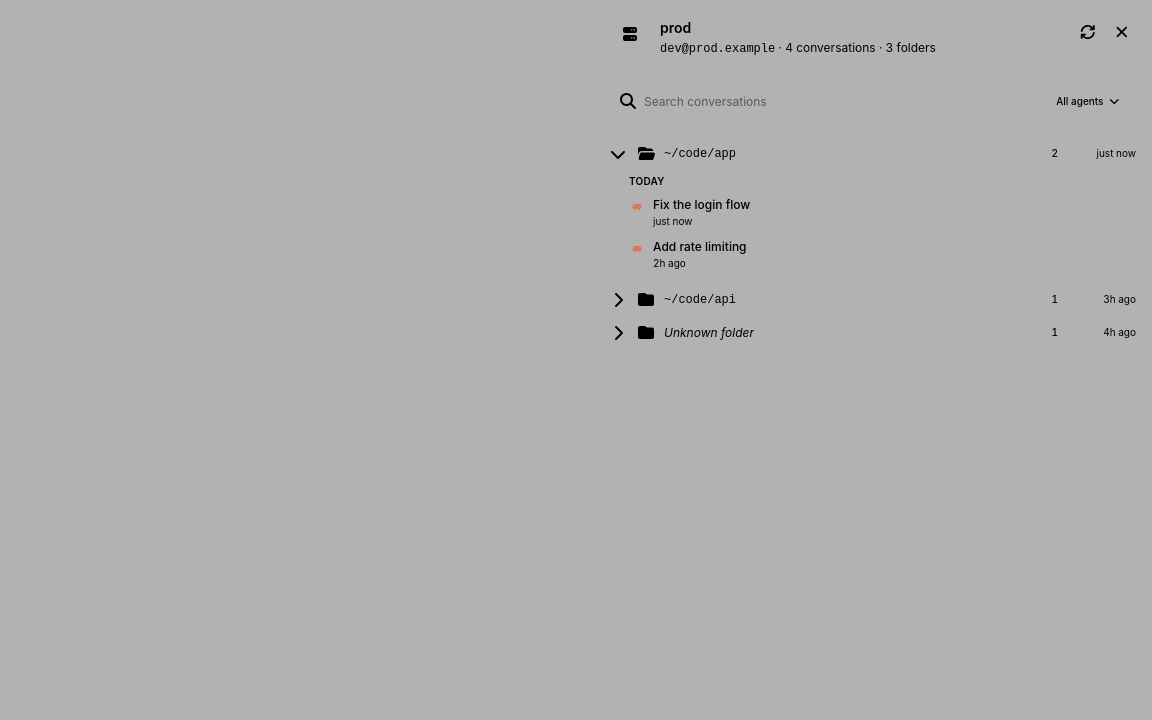
it: SshHistoryPanel › groups by folder, home shortened to ~, newest folder open and the rest folded
This screenshot has width=1152, height=720.
Expected: the text "Fix the login flow" is shown, 653,197 -> 750,212
Expected: the dialog "prod" shows "4 conversations · 3 folders", 785,40 -> 936,55
Click the button "~/code /api 1 3h ago". click: (686, 300)
box: 600,285 -> 1144,314
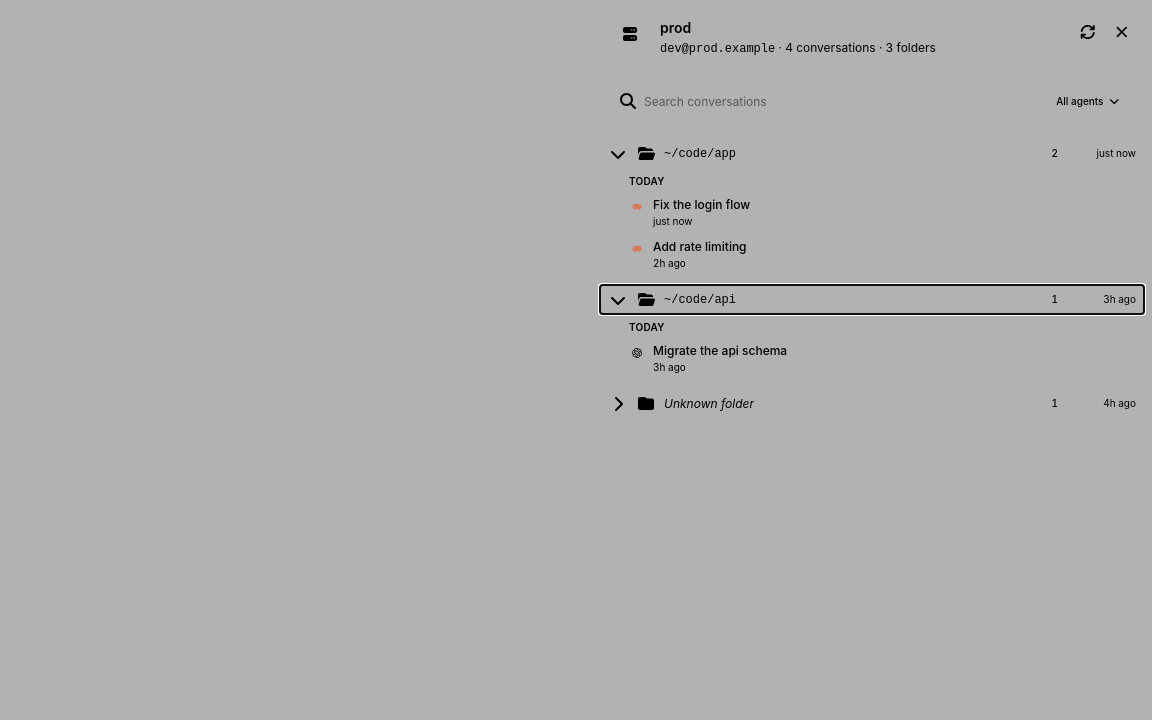
Expected: the button "~/code /api 1 3h ago" is expanded, 600,285 -> 1144,314
Expected: the text "Migrate the api schema" is shown, 653,343 -> 787,358
Click the button "~/code /app 2 just now". click: (686, 154)
box: 600,139 -> 1144,168
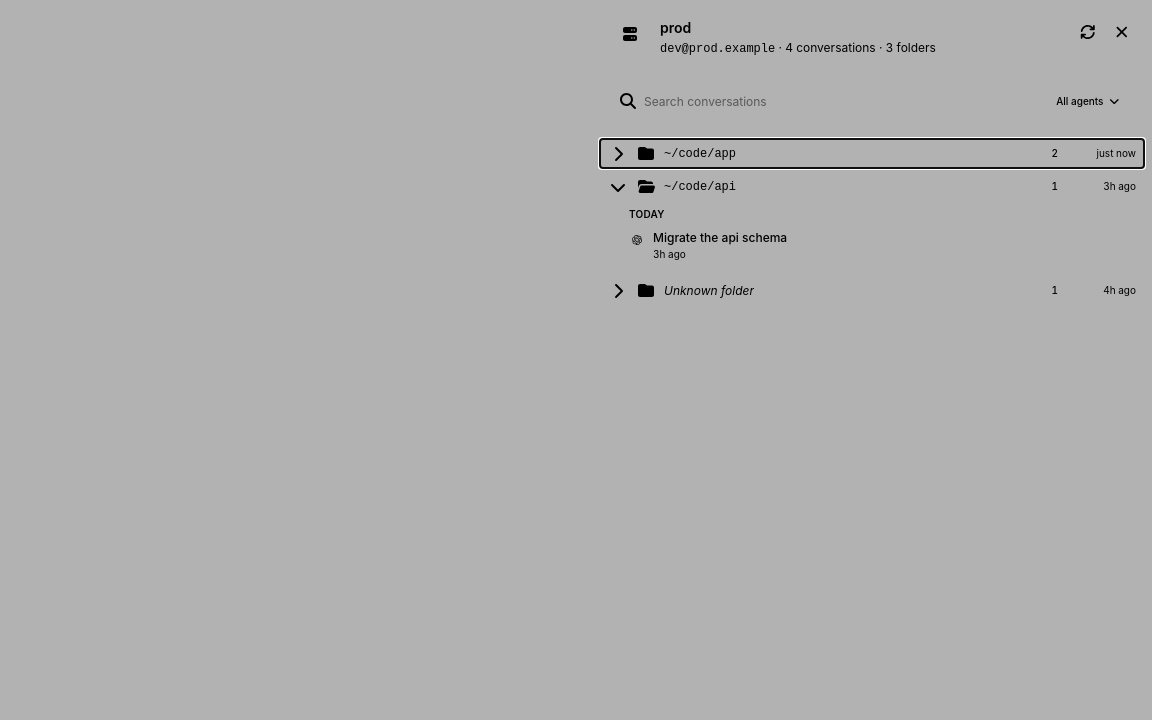
Expected: the button "~/code /app 2 just now" is collapsed, 600,139 -> 1144,168
Expected: the button "Fix the login flow" is gone
